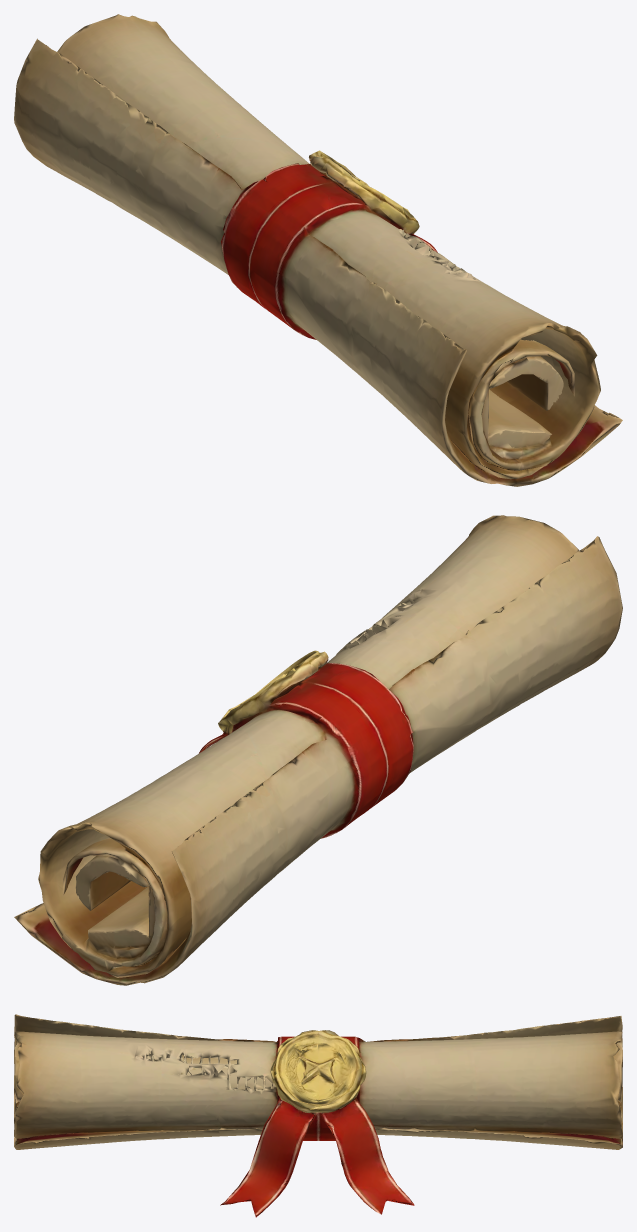
The model's file is document.glb.
3 renders of one model, top to bottom at view 1: azimuth 30°, elevation 25°; view 2: azimuth 150°, elevation 25°; view 3: azimuth 270°, elevation 25°, orthographic. The views are drawn at different scales.
Visible parts, largest first — view 1: tripo_node_4bd5fe5d_tripo_mat_4bd5fe5d_0; view 2: tripo_node_4bd5fe5d_tripo_mat_4bd5fe5d_0; view 3: tripo_node_4bd5fe5d_tripo_mat_4bd5fe5d_0.
Part boxes in pixels (x1,y1,x2,y2): tripo_node_4bd5fe5d_tripo_mat_4bd5fe5d_0: [14, 14, 622, 486]; tripo_node_4bd5fe5d_tripo_mat_4bd5fe5d_0: [14, 515, 622, 985]; tripo_node_4bd5fe5d_tripo_mat_4bd5fe5d_0: [14, 1014, 622, 1217].
Size of the model in its own units: 0.3472 by 0.2404 by 1.
1 material, 1 textured.
